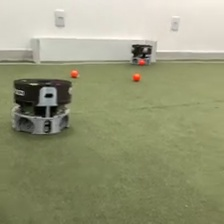ball: (131, 71, 141, 81), (69, 68, 79, 78), (138, 58, 146, 65)
goal: (30, 36, 158, 65)
robot: (11, 76, 74, 137), (129, 42, 154, 67)
